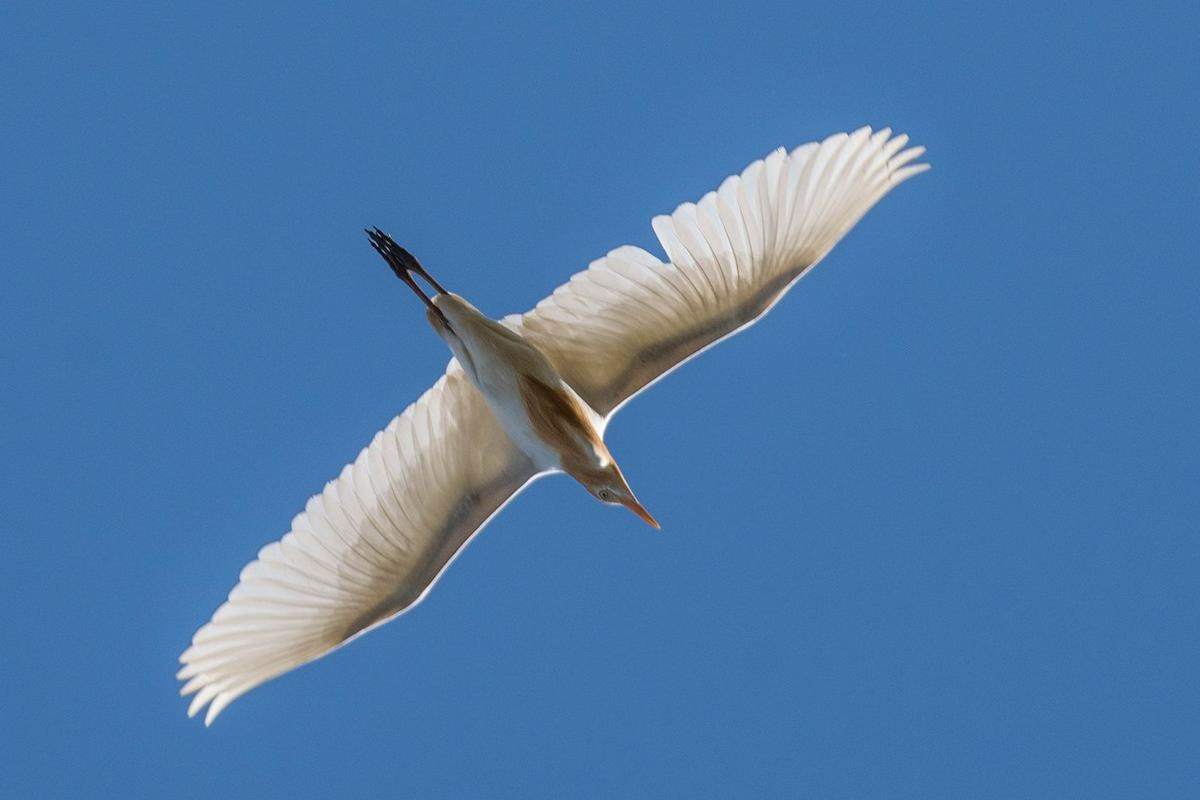egret: (146, 73, 967, 758)
